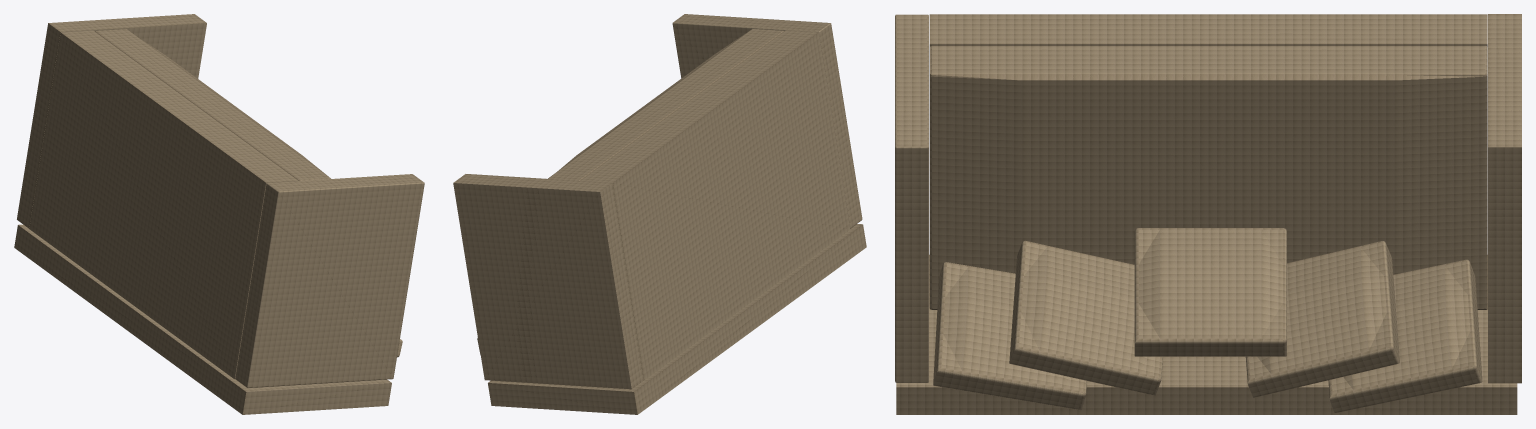
The model's file is marlena.obj.
3 views of the same model, side by side, from view 1: azimuth 30°, elevation 25°; view 2: azimuth 150°, elevation 25°; view 3: azimuth 270°, elevation 25° (orthographic). The views are drawn at different scales.
Parts seen in each view (by area): view 1: Object.1; view 2: Object.1; view 3: Object.1.
Part boxes in pixels (x1,y1,x2,y2): Object.1: [14, 14, 424, 414]; Object.1: [453, 14, 866, 414]; Object.1: [895, 14, 1521, 414].
Bounding box in the file's own units: 1.41e+07 × 1.78e+07 × 3.08e+07.
1 material, 1 textured.
